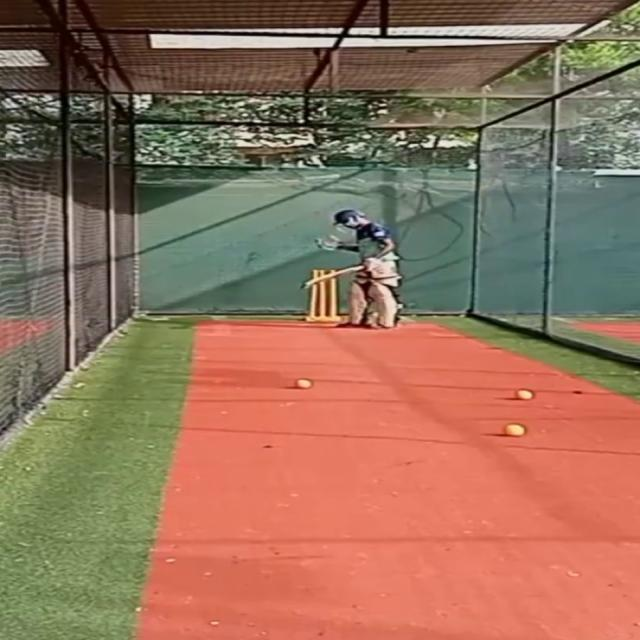ball: (499, 422, 525, 437), (511, 388, 538, 402), (295, 376, 314, 391)
stump: (306, 268, 340, 322)
